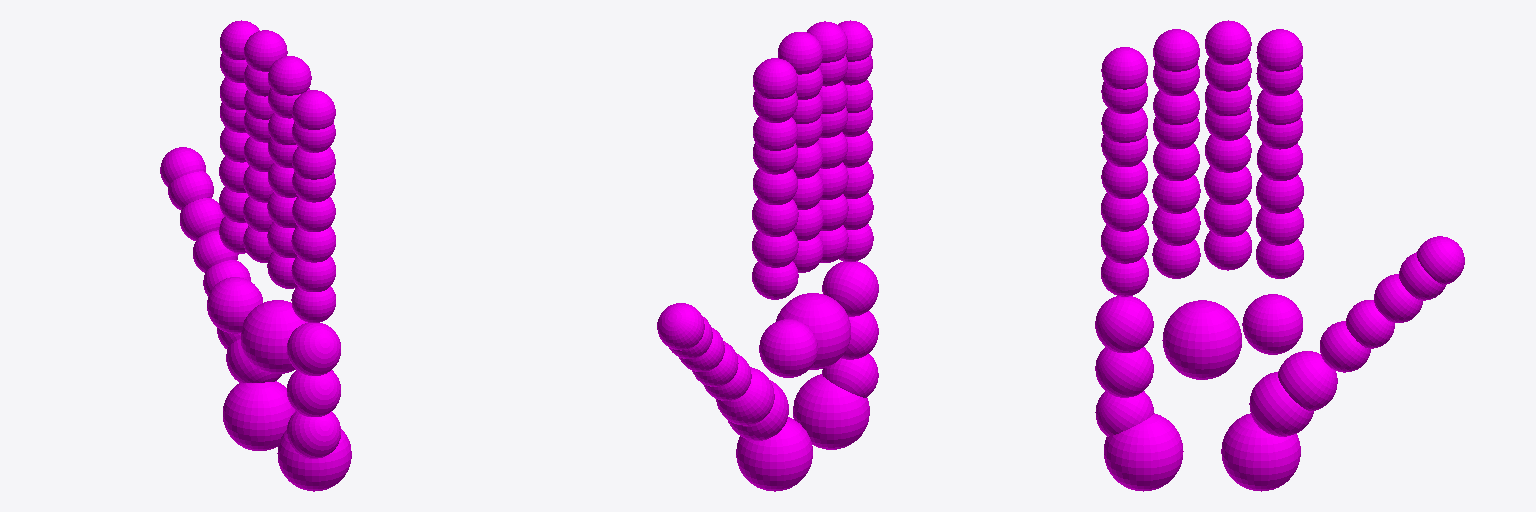
--- Render facts (derived) ---
3 views of the same robot in one strip: view 1: azimuth 30°, elevation 25°; view 2: azimuth 150°, elevation 25°; view 3: azimuth 270°, elevation 25° (orthographic).
Robot: shadow_right — 83 links, 82 joints (25 revolute, 3 prismatic, 54 fixed); root link base_link_x; default pose: every joint at zero.
Visible links, largest first — view 1: palm_collision_ball_0, palm_collision_ball_2, palm_collision_ball_1, lfmetacarpal_collision_ball_2, palm_collision_ball_3, lfmetacarpal_collision_ball_0, lfmetacarpal_collision_ball_1, lfdistal_collision_ball_2, rfdistal_collision_ball_2, thdistal_collision_ball_0, mfdistal_collision_ball_2, lfproximal_collision_ball_0 (+28 smaller); view 2: palm_collision_ball_1, palm_collision_ball_0, palm_collision_ball_2, palm_collision_ball_3, lfmetacarpal_collision_ball_2, thproximal_collision_ball_1, thdistal_collision_ball_2, lfmetacarpal_collision_ball_0, ffdistal_collision_ball_2, mfdistal_collision_ball_2, ffproximal_collision_ball_2, ffproximal_collision_ball_0 (+28 smaller); view 3: palm_collision_ball_2, palm_collision_ball_1, palm_collision_ball_0, palm_collision_ball_3, lfmetacarpal_collision_ball_2, thproximal_collision_ball_1, thproximal_collision_ball_0, lfmetacarpal_collision_ball_1, lfmetacarpal_collision_ball_0, thmiddle_collision_ball_0, thdistal_collision_ball_2, mfdistal_collision_ball_2 (+28 smaller).
Link boxes in pixels (x1,y1,x2,y2): palm_collision_ball_0: (223,381,295,450); palm_collision_ball_2: (241,300,307,373); palm_collision_ball_1: (277,429,351,491); lfmetacarpal_collision_ball_2: (287,323,340,375); palm_collision_ball_3: (207,277,262,333); lfmetacarpal_collision_ball_0: (287,411,340,458); lfmetacarpal_collision_ball_1: (287,370,340,416); lfdistal_collision_ball_2: (292,90,335,129); rfdistal_collision_ball_2: (268,56,311,95); thdistal_collision_ball_0: (180,198,224,240); mfdistal_collision_ball_2: (244,30,287,71); lfproximal_collision_ball_0: (291,286,335,322); palm_collision_ball_1: (793,374,869,449); palm_collision_ball_0: (736,417,812,491); palm_collision_ball_2: (776,293,850,369); palm_collision_ball_3: (759,319,817,377); lfmetacarpal_collision_ball_2: (822,261,878,316); thproximal_collision_ball_1: (716,367,774,425); thdistal_collision_ball_2: (657,303,704,350); lfmetacarpal_collision_ball_0: (822,354,878,397); ffdistal_collision_ball_2: (753,58,797,98); mfdistal_collision_ball_2: (778,32,822,74); ffproximal_collision_ball_2: (752,199,798,236); ffproximal_collision_ball_0: (752,261,798,299); palm_collision_ball_2: (1162,300,1241,379); palm_collision_ball_1: (1104,413,1183,491); palm_collision_ball_0: (1221,413,1300,491); palm_collision_ball_3: (1242,294,1302,354); lfmetacarpal_collision_ball_2: (1095,296,1153,352); thproximal_collision_ball_1: (1278,351,1337,410); thproximal_collision_ball_0: (1249,371,1313,436); lfmetacarpal_collision_ball_1: (1095,347,1153,397); lfmetacarpal_collision_ball_0: (1095,391,1153,436); thmiddle_collision_ball_0: (1320,321,1370,372); thdistal_collision_ball_2: (1417,236,1464,284); mfdistal_collision_ball_2: (1205,20,1251,64).
Bounding box of the posed robot: 0.0406 × 0.1573 × 0.216 m (x, y, z).
Meshes: 9 distinct files referenced, 0 mesh visuals loaded (none loaded); not drawn: 21 (reference not matched to a file when rendering).

URDF robot description (shadow_right):
<robot name="shadow_right">
  <link name="base_link_x"/>

  <joint name="dummy_x_translation_joint" type="prismatic">
    <parent link="base_link_x"/>
    <child link="base_link_y"/>
    <origin rpy="0 0 0" xyz="0 0 0"/>
    <axis xyz="1 0 0"/>
    <limit effort="300" lower="-10" upper="10" velocity="2.1750"/>
  </joint>

  <link name="base_link_y"/>

  <joint name="dummy_y_translation_joint" type="prismatic">
    <parent link="base_link_y"/>
    <child link="base_link_z"/>
    <origin rpy="0 0 0" xyz="0 0 0"/>
    <axis xyz="0 1 0"/>
    <limit effort="300" lower="-10" upper="10" velocity="2.1750"/>
  </joint>

  <link name="base_link_z"/>

  <joint name="dummy_z_translation_joint" type="prismatic">
    <parent link="base_link_z"/>
    <child link="base_link_roll"/>
    <origin rpy="0 0 0" xyz="0 0 0"/>
    <axis xyz="0 0 1"/>
    <limit effort="300" lower="-10" upper="10" velocity="2.1750"/>
  </joint>

  <link name="base_link_roll"/>

  <joint name="dummy_x_rotation_joint" type="revolute">
    <parent link="base_link_roll"/>
    <child link="base_link_pitch"/>
    <origin rpy="0 0 0" xyz="0 0 0"/>
    <axis xyz="1 0 0"/>
    <limit effort="100.95" velocity="108.48" lower="-6.283185" upper="6.283185"/>
  </joint>

  <link name="base_link_pitch"/>

  <joint name="dummy_y_rotation_joint" type="revolute">
    <parent link="base_link_pitch"/>
    <child link="base_link_yaw"/>
    <origin rpy="0 0 0" xyz="0 0 0"/>
    <axis xyz="0 1 0"/>
    <limit effort="100.95" velocity="108.48" lower="-6.283185" upper="6.283185"/>
  </joint>

  <link name="base_link_yaw"/>

  <joint name="dummy_z_rotation_joint" type="revolute">
    <parent link="base_link_yaw"/>
    <child link="world"/>
    <origin rpy="0 0 0" xyz="0 0 0"/>
    <axis xyz="0 0 1"/>
    <limit effort="100.95" velocity="108.48" lower="-6.283185" upper="6.283185"/>
  </joint>
  
  <link name="world"/>
  <joint name="world_joint" type="fixed">
    <parent link="world"/>
    <child link="palm"/>
    <origin rpy="0.0 0.0 1.57079" xyz="0.0 0.0 0.0"/>
  </joint>

  <link name="palm">
    <inertial>
      <origin rpy="0 0 0" xyz="0 0 0.035"/>
      <mass value="0.3"/>
      <inertia ixx="0.0003581" ixy="0.0" ixz="0.0" iyy="0.0005287" iyz="0.0" izz="0.000191"/>
    </inertial>
    <visual>
      <origin rpy="0 0 0" xyz="0 0 0"/>
      <geometry name="palm_visual">
        <mesh filename="meshes/visual/palm_E3M5.obj" scale="0.001 0.001 0.001"/>
      </geometry>
    </visual>
    <collision>
      <origin rpy="0 0 0" xyz="0.011 0.0085 0.042"/>
      <geometry name="palm_collision_geom">
        <box size="0.062 0.007 0.090"/>
      </geometry>
    </collision>
    <collision>
      <origin rpy="0 0 0" xyz="-0.002 -0.0035 0.042"/>
      <geometry>
        <box size="0.036 0.017 0.090"/>
      </geometry>
    </collision>
    <!-- palm complement below first finger -->
    <collision>
      <origin rpy="0 0 0" xyz="0.029 -0.0035 0.082"/>
      <geometry>
        <box size="0.026 0.017 0.010"/>
      </geometry>
    </collision>
    <collision>
      <origin rpy="0.2 0 0.25" xyz="0.0265 -0.001 0.070"/>
      <geometry>
        <box size="0.026 0.014 0.018"/>
      </geometry>
    </collision>
    <!-- thumb pulp side -->
    <collision>
      <origin rpy="0 0 0" xyz="0.0315 -0.0085 0.005"/>
      <geometry>
        <box size="0.021 0.027 0.016"/>
      </geometry>
    </collision>
    <!-- thumb pulp central -->
    <collision>
      <origin rpy="0 0 -0.48" xyz="0.0125 -0.015 0.013"/>
      <geometry>
        <box size="0.022 0.005 0.032"/>
      </geometry>
    </collision>
    <!-- above middle finger-->
    <collision>
      <origin rpy="0 0 0" xyz="0.011 0 0.089"/>
      <geometry>
        <box size="0.018 0.024 0.004"/>
      </geometry>
    </collision>
    <!-- metacarpal side-->
    <collision>
      <origin rpy="0 0 0" xyz="-0.03 0 0.013"/>
      <geometry>
        <box size="0.020 0.024 0.032"/>
      </geometry>
    </collision>
  </link>

  <!-- balls -->

  <link name="palm_collision_ball_0">
    <visual>
    <geometry>
    <sphere radius="0.017"/>
    </geometry>
    <material name="purple">
    <color rgba="1.0 0.0 1.0 1.0"/>
    </material>
    </visual>
    <collision>
    <geometry>
    <sphere radius="0.017"/>
    </geometry>
    </collision>
  </link>
  <joint name="palm_collision_ball_0_joint" type="fixed">
    <parent link="palm"/>
    <child link="palm_collision_ball_0"/>
    <origin rpy="0 0 0" xyz="0.025 -0.005 0.005 "/>
  </joint>

  <link name="palm_collision_ball_1">
    <visual>
    <geometry>
    <sphere radius="0.017"/>
    </geometry>
    <material name="purple">
    <color rgba="1.0 0.0 1.0 1.0"/>
    </material>
    </visual>
    <collision>
    <geometry>
    <sphere radius="0.017"/>
    </geometry>
    </collision>
  </link>
  <joint name="palm_collision_ball_1_joint" type="fixed">
    <parent link="palm"/>
    <child link="palm_collision_ball_1"/>
    <origin rpy="0 0 0" xyz="-0.025 -0.005 0.005 "/>
  </joint>

  <link name="palm_collision_ball_2">
    <visual>
    <geometry>
    <sphere radius="0.017"/>
    </geometry>
    <material name="purple">
    <color rgba="1.0 0.0 1.0 1.0"/>
    </material>
    </visual>
    <collision>
    <geometry>
    <sphere radius="0.017"/>
    </geometry>
    </collision>
  </link>
  <joint name="palm_collision_ball_2_joint" type="fixed">
    <parent link="palm"/>
    <child link="palm_collision_ball_2"/>
    <origin rpy="0 0 0" xyz="0.0 0.0 0.055 "/>
  </joint> 

  <link name="palm_collision_ball_3">
    <visual>
    <geometry>
    <sphere radius="0.013"/>
    </geometry>
    <material name="purple">
    <color rgba="1.0 0.0 1.0 1.0"/>
    </material>
    </visual>
    <collision>
    <geometry>
    <sphere radius="0.013"/>
    </geometry>
    </collision>
  </link>
  <joint name="palm_collision_ball_3_joint" type="fixed">
    <parent link="palm"/>
    <child link="palm_collision_ball_3"/>
    <origin rpy="0 0 0" xyz="0.03 0.005 0.06 "/>
  </joint>

  <joint name="ee_fixed_joint" type="fixed">
    <parent link="palm"/>
    <child link="ee_link"/>
    <origin rpy="0.0 0.0 -1.57079" xyz="0.0 0.0 0.0"/>
  </joint>
  <link name="ee_link"/>
  
  <link name="imu"/>
  <joint name="palm_to_imu" type="fixed">
    <parent link="palm"/>
    <child link="imu"/>
    <origin rpy="-1.5707963 3.141592 0.0" xyz="0.01785 0.00765 0.049125"/>
  </joint>
  <link name="ffknuckle">
    <inertial>
      <origin rpy="0 0 0" xyz="0 0 0"/>
      <mass value="0.008"/>
      <inertia ixx="0.00000026" ixy="0.0" ixz="0.0" iyy="0.00000026" iyz="0.0" izz="0.00000032"/>
    </inertial>
    <visual>
      <origin rpy="0 0 0" xyz="0 0 0.0005"/>
      <geometry name="ffknuckle_visual">
        <mesh filename="meshes/visual/f_knuckle_E3M5.obj" scale="0.001 0.001 0.001"/>
      </geometry>
    </visual>
    <collision>
      <geometry name="ffknuckle_visual">
        <mesh filename="meshes/collision/f_knuckle_E3M5.obj"/>
      </geometry>
    </collision>
  </link>
  <joint name="FFJ4" type="revolute">
    <parent link="palm"/>
    <child link="ffknuckle"/>
    <origin rpy="0 0 0" xyz="0.033 0 0.095"/>
    <axis xyz="0 -1 0"/>
    <limit effort="2" lower="-0.349065850399" upper="0.349065850399" velocity="2.0"/>
    <dynamics damping="0.1"/>
  </joint>
  <link name="ffproximal">
    <inertial>
      <mass value="0.030"/>
      <origin xyz="0 0 0.0225"/>
      <inertia ixx="0.0000098" ixy="0.0" ixz="0.0" iyy="0.00001" iyz="0.0" izz="0.0000018"/>
    </inertial>
    <visual>
      <origin rpy="0 0 0" xyz="0 0 0"/>
      <geometry name="ffproximal_visual">
        <mesh filename="meshes/visual/f_proximal_E3M5.obj" scale="0.001 0.001 0.001"/>
      </geometry>
    </visual>
    <collision>
      <origin rpy="0 0 0" xyz="0 0 0.025"/>
      <geometry name="ffproximal_collision_geom">
        <cylinder length="0.040" radius="0.007"/>
      </geometry>
    </collision>
  </link>

  <!-- balls -->

  <link name="ffproximal_collision_ball_0">
    <visual>
    <geometry>
    <sphere radius="0.0103"/>
    </geometry>
    <material name="purple">
    <color rgba="1.0 0.0 1.0 1.0"/>
    </material>
    </visual>
    <collision>
    <geometry>
    <sphere radius="0.0103"/>
    </geometry>
    </collision>
  </link>
  <joint name="ffproximal_collision_ball_0_joint" type="fixed">
    <parent link="ffproximal"/>
    <child link="ffproximal_collision_ball_0"/>
    <origin rpy="0 0 0" xyz="0.0 0.0 0.0 "/>
  </joint>

  <link name="ffproximal_collision_ball_1">
    <visual>
    <geometry>
    <sphere radius="0.0103"/>
    </geometry>
    <material name="purple">
    <color rgba="1.0 0.0 1.0 1.0"/>
    </material>
    </visual>
    <collision>
    <geometry>
    <sphere radius="0.0103"/>
    </geometry>
    </collision>
  </link>
  <joint name="ffproximal_collision_ball_1_joint" type="fixed">
    <parent link="ffproximal"/>
    <child link="ffproximal_collision_ball_1"/>
    <origin rpy="0 0 0" xyz="0.0 0.0 0.015 "/>
  </joint>

  <link name="ffproximal_collision_ball_2">
    <visual>
    <geometry>
    <sphere radius="0.0103"/>
    </geometry>
    <material name="purple">
    <color rgba="1.0 0.0 1.0 1.0"/>
    </material>
    </visual>
    <collision>
    <geometry>
    <sphere radius="0.0103"/>
    </geometry>
    </collision>
  </link>
  <joint name="ffproximal_collision_ball_2_joint" type="fixed">
    <parent link="ffproximal"/>
    <child link="ffproximal_collision_ball_2"/>
    <origin rpy="0 0 0" xyz="0.0 0.0 0.03 "/>
  </joint>

  <joint name="FFJ3" type="revolute">
    <parent link="ffknuckle"/>
    <child link="ffproximal"/>
    <origin rpy="0 0 0" xyz="0 0 0"/>
    <axis xyz="1 0 0"/>
    <limit effort="2" lower="-0.261799387799" upper="1.57079632679" velocity="2.0"/>
    <dynamics damping="0.1"/>
  </joint>
  <link name="ffmiddle">
    <inertial>
      <origin rpy="0 0 0" xyz="0 0 0.0125"/>
      <mass value="0.017"/>
      <inertia ixx="0.0000026" ixy="0.0" ixz="0.0" iyy="0.0000027" iyz="0.0" izz="0.00000087"/>
    </inertial>
    <visual>
      <origin rpy="0 0 0" xyz="0 0 0"/>
      <geometry name="ffmiddle_visual">
        <mesh filename="meshes/visual/f_middle_E3M5.obj" scale="0.001 0.001 0.001"/>
      </geometry>
    </visual>
    <collision>
      <origin rpy="0 0 0" xyz="0 0 0.0125"/>
      <geometry name="ffmiddle_collision_geom">
        <cylinder length="0.025" radius="0.007"/>
      </geometry>
    </collision>
    <collision>
      <origin rpy="0 0 0" xyz="0 0 0.0"/>
      <geometry>
        <sphere radius="0.007"/>
      </geometry>
    </collision>
    <collision>
      <origin rpy="0 0 0" xyz="0 0 0.025"/>
      <geometry>
        <sphere radius="0.007"/>
      </geometry>
    </collision>
  </link>

  <!-- balls -->

  <link name="ffmiddle_collision_ball_0">
    <visual>
    <geometry>
    <sphere radius="0.010"/>
    </geometry>
    <material name="purple">
    <color rgba="1.0 0.0 1.0 1.0"/>
    </material>
    </visual>
    <collision>
    <geometry>
    <sphere radius="0.010"/>
    </geometry>
    </collision>
  </link>
  <joint name="ffmiddle_collision_ball_0_joint" type="fixed">
    <parent link="ffmiddle"/>
    <child link="ffmiddle_collision_ball_0"/>
    <origin rpy="0 0 0" xyz="0.0 0.0 0.0 "/>
  </joint>

  <link name="ffmiddle_collision_ball_1">
    <visual>
    <geometry>
    <sphere radius="0.010"/>
    </geometry>
    <material name="purple">
    <color rgba="1.0 0.0 1.0 1.0"/>
    </material>
    </visual>
    <collision>
    <geometry>
    <sphere radius="0.010"/>
    </geometry>
    </collision>
  </link>
  <joint name="ffmiddle_collision_ball_1_joint" type="fixed">
    <parent link="ffmiddle"/>
    <child link="ffmiddle_collision_ball_1"/>
    <origin rpy="0 0 0" xyz="0.0 0.0 0.015 "/>
  </joint>

  <joint name="FFJ2" type="revolute">
    <parent link="ffproximal"/>
    <child link="ffmiddle"/>
    <origin rpy="0 0 0" xyz="0 0 0.045"/>
    <axis xyz="1 0 0"/>
    <limit effort="2" lower="0" upper="1.57079632679" velocity="2.0"/>
    <dynamics damping="0.1"/>
  </joint>
  <link name="ffdistal">
    <!--    inertial and mass is enlarged by 10 times to fix the position drive issue in Physx simulation, used in IsaacGym and SAPIEN-->
    <inertial>
      <mass value="0.12"/>
      <origin xyz="0 0 0.012"/>
      <inertia ixx="0.0000094" ixy="0.0" ixz="0.0" iyy="0.000011" iyz="0.0" izz="0.0000053"/>
    </inertial>
    <visual>
      <origin rpy="0 0 0" xyz="0 0 0"/>
      <geometry name="ffdistal_visual">
        <mesh filename="meshes/visual/f_distal_pst.obj" scale="0.001 0.001 0.001"/>
      </geometry>
    </visual>
    <collision>
      <origin rpy="0 0 0" xyz="0 0 0"/>
      <geometry name="ffdistal_collision_geom">
        <mesh filename="meshes/visual/f_distal_pst.obj" scale="0.001 0.001 0.001"/>
      </geometry>
    </collision>
  </link>

  <!-- balls -->

  <link name="ffdistal_collision_ball_0">
    <visual>
    <geometry>
    <sphere radius="0.010"/>
    </geometry>
    <material name="purple">
    <color rgba="1.0 0.0 1.0 1.0"/>
    </material>
    </visual>
    <collision>
    <geometry>
    <sphere radius="0.010"/>
    </geometry>
    </collision>
  </link>
  <joint name="ffdistal_collision_ball_0_joint" type="fixed">
    <parent link="ffdistal"/>
    <child link="ffdistal_collision_ball_0"/>
    <origin rpy="0 0 0" xyz="0.0 0.0 0.0 "/>
  </joint>

  <link name="ffdistal_collision_ball_1">
    <visual>
    <geometry>
    <sphere radius="0.010"/>
    </geometry>
    <material name="purple">
    <color rgba="1.0 0.0 1.0 1.0"/>
    </material>
    </visual>
    <collision>
    <geometry>
    <sphere radius="0.010"/>
    </geometry>
    </collision>
  </link>
  <joint name="ffdistal_collision_ball_1_joint" type="fixed">
    <parent link="ffdistal"/>
    <child link="ffdistal_collision_ball_1"/>
    <origin rpy="0 0 0" xyz="0.0 0.0 0.015 "/>
  </joint>

  <link name="ffdistal_collision_ball_2">
    <visual>
    <geometry>
    <sphere radius="0.010"/>
    </geometry>
    <material name="purple">
    <color rgba="1.0 0.0 1.0 1.0"/>
    </material>
    </visual>
    <collision>
    <geometry>
    <sphere radius="0.010"/>
    </geometry>
    </collision>
  </link>
  <joint name="ffdistal_collision_ball_2_joint" type="fixed">
    <parent link="ffdistal"/>
    <child link="ffdistal_collision_ball_2"/>
    <origin rpy="0 0 0" xyz="0.0 0.0 0.025 "/>
  </joint>

  <joint name="FFJ1" type="revolute">
    <parent link="ffmiddle"/>
    <child link="ffdistal"/>
    <origin rpy="0 0 0" xyz="0 0 0.025"/>
    <axis xyz="1 0 0"/>
    <!-- standard distal joint -->
    <limit effort="2" lower="0" upper="1.57079632679" velocity="2.0"/>
    <dynamics damping="0.1"/>
  </joint>
  <link name="fftip">
    <inertial>
      <mass value="0.001"/>
      <inertia ixx="0.0" ixy="0.0" ixz="0.0" iyy="0.0" iyz="0.0" izz="0.0"/>
    </inertial>
  </link>
  <joint name="FFtip" type="fixed">
    <parent link="ffdistal"/>
    <child link="fftip"/>
    <origin rpy="0 0 0" xyz="0 0 0.026"/>
  </joint>
  <link name="mfknuckle">
    <inertial>
      <origin rpy="0 0 0" xyz="0 0 0"/>
      <mass value="0.008"/>
      <inertia ixx="0.00000026" ixy="0.0" ixz="0.0" iyy="0.00000026" iyz="0.0" izz="0.00000032"/>
    </inertial>
    <visual>
      <origin rpy="0 0 0" xyz="0 0 0.0005"/>
      <geometry name="mfknuckle_visual">
        <mesh filename="meshes/visual/f_knuckle_E3M5.obj" scale="0.001 0.001 0.001"/>
      </geometry>
    </visual>
    <collision>
      <geometry name="ffknuckle_visual">
        <mesh filename="meshes/collision/f_knuckle_E3M5.obj"/>
      </geometry>
    </collision>
  </link>
  <joint name="MFJ4" type="revolute">
    <parent link="palm"/>
    <child link="mfknuckle"/>
    <!--<origin xyz="0.033 0 0.095" rpy="0 0 0" />-->
    <origin rpy="0 0 0" xyz="0.011 0 0.099"/>
    <axis xyz="0 -1 0"/>
    <limit effort="2" lower="-0.349065850399" upper="0.349065850399" velocity="2.0"/>
    <dynamics damping="0.1"/>
  </joint>
  <link name="mfproximal">
    <inertial>
      <mass value="0.030"/>
      <origin xyz="0 0 0.0225"/>
      <inertia ixx="0.0000098" ixy="0.0" ixz="0.0" iyy="0.00001" iyz="0.0" izz="0.0000018"/>
    </inertial>
    <visual>
      <origin rpy="0 0 0" xyz="0 0 0"/>
      <geometry name="mfproximal_visual">
        <mesh filename="meshes/visual/f_proximal_E3M5.obj" scale="0.001 0.001 0.001"/>
      </geometry>
    </visual>
    <collision>
      <origin rpy="0 0 0" xyz="0 0 0.025"/>
      <geometry name="mfproximal_collision_geom">
        <cylinder length="0.040" radius="0.007"/>
      </geometry>
    </collision>
  </link>

  <!-- balls -->

  <link name="mfproximal_collision_ball_0">
    <visual>
    <geometry>
    <sphere radius="0.0103"/>
    </geometry>
    <material name="purple">
    <color rgba="1.0 0.0 1.0 1.0"/>
    </material>
    </visual>
    <collision>
    <geometry>
    <sphere radius="0.0103"/>
    </geometry>
    </collision>
  </link>
  <joint name="mfproximal_collision_ball_0_joint" type="fixed">
    <parent link="mfproximal"/>
    <child link="mfproximal_collision_ball_0"/>
    <origin rpy="0 0 0" xyz="0.0 0.0 0.0 "/>
  </joint>

  <link name="mfproximal_collision_ball_1">
    <visual>
    <geometry>
    <sphere radius="0.0103"/>
    </geometry>
    <material name="purple">
    <color rgba="1.0 0.0 1.0 1.0"/>
    </material>
    </visual>
    <collision>
    <geometry>
    <sphere radius="0.0103"/>
    </geometry>
    </collision>
  </link>
  <joint name="mfproximal_collision_ball_1_joint" type="fixed">
    <parent link="mfproximal"/>
    <child link="mfproximal_collision_ball_1"/>
    <origin rpy="0 0 0" xyz="0.0 0.0 0.015 "/>
  </joint>

  <link name="mfproximal_collision_ball_2">
    <visual>
    <geometry>
    <sphere radius="0.0103"/>
    </geometry>
    <material name="purple">
    <color rgba="1.0 0.0 1.0 1.0"/>
    </material>
    </visual>
    <collision>
    <geometry>
    <sphere radius="0.0103"/>
    </geometry>
    </collision>
  </link>
  <joint name="mfproximal_collision_ball_2_joint" type="fixed">
    <parent link="mfproximal"/>
    <child link="mfproximal_collision_ball_2"/>
    <origin rpy="0 0 0" xyz="0.0 0.0 0.03 "/>
  </joint>

  <joint name="MFJ3" type="revolute">
    <parent link="mfknuckle"/>
    <child link="mfproximal"/>
    <origin rpy="0 0 0" xyz="0 0 0"/>
    <axis xyz="1 0 0"/>
    <limit effort="2" lower="-0.261799387799" upper="1.57079632679" velocity="2.0"/>
    <dynamics damping="0.1"/>
  </joint>
  <link name="mfmiddle">
    <inertial>
      <origin rpy="0 0 0" xyz="0 0 0.0125"/>
      <mass value="0.017"/>
      <inertia ixx="0.0000026" ixy="0.0" ixz="0.0" iyy="0.0000027" iyz="0.0" izz="0.00000087"/>
    </inertial>
    <visual>
      <origin rpy="0 0 0" xyz="0 0 0"/>
      <geometry name="mfmiddle_visual">
        <mesh filename="meshes/visual/f_middle_E3M5.obj" scale="0.001 0.001 0.001"/>
      </geometry>
    </visual>
    <collision>
      <origin rpy="0 0 0" xyz="0 0 0.0125"/>
      <geometry name="mfmiddle_collision_geom">
        <cylinder length="0.025" radius="0.007"/>
      </geometry>
    </collision>
    <collision>
      <origin rpy="0 0 0" xyz="0 0 0.0"/>
      <geometry>
        <sphere radius="0.007"/>
      </geometry>
    </collision>
    <collision>
      <origin rpy="0 0 0" xyz="0 0 0.025"/>
      <geometry>
        <sphere radius="0.007"/>
      </geometry>
    </collision>
  </link>

  <!-- balls -->

  <link name="mfmiddle_collision_ball_0">
    <visual>
    <geometry>
    <sphere radius="0.010"/>
    </geometry>
    <material name="purple">
    <color rgba="1.0 0.0 1.0 1.0"/>
    </material>
    </visual>
    <collision>
    <geometry>
    <sphere radius="0.010"/>
    </geometry>
    </collision>
  </link>
  <joint name="mfmiddle_collision_ball_0_joint" type="fixed">
    <parent link="mfmiddle"/>
    <child link="mfmiddle_collision_ball_0"/>
    <origin rpy="0 0 0" xyz="0.0 0.0 0.0 "/>
  </joint>

  <link name="mfmiddle_collision_ball_1">
    <visual>
    <geometry>
    <sphere radius="0.010"/>
    </geometry>
    <material name="purple">
    <color rgba="1.0 0.0 1.0 1.0"/>
    </material>
    </visual>
    <collision>
    <geometry>
    <sphere radius="0.010"/>
    </geometry>
    </collision>
  </link>
  <joint name="mfmiddle_collision_ball_1_joint" type="fixed">
    <parent link="mfmiddle"/>
    <child link="mfmiddle_collision_ball_1"/>
    <origin rpy="0 0 0" xyz="0.0 0.0 0.015 "/>
  </joint>

  <joint name="MFJ2" type="revolute">
    <parent link="mfproximal"/>
    <child link="mfmiddle"/>
    <origin rpy="0 0 0" xyz="0 0 0.045"/>
    <axis xyz="1 0 0"/>
    <limit effort="2" lower="0" upper="1.57079632679" velocity="2.0"/>
    <dynamics damping="0.1"/>
  </joint>
  <link name="mfdistal">
    <!--    inertial and mass is enlarged by 10 times to fix the position drive issue in Physx simulation, used in IsaacGym and SAPIEN-->
    <inertial>
      <mass value="0.12"/>
      <origin xyz="0 0 0.012"/>
      <inertia ixx="0.0000094" ixy="0.0" ixz="0.0" iyy="0.000011" iyz="0.0" izz="0.0000053"/>
    </inertial>
    <visual>
      <origin rpy="0 0 0" xyz="0 0 0"/>
      <geometry name="mfdistal_visual">
        <mesh filename="meshes/visual/f_distal_pst.obj" scale="0.001 0.001 0.001"/>
      </geometry>
    </visual>
    <collision>
      <origin rpy="0 0 0" xyz="0 0 0"/>
      <geometry name="mfdistal_collision_geom">
        <mesh filename="meshes/collision/f_distal_pst.obj" scale="0.001 0.001 0.001"/>
      </geometry>
    </collision>
  </link>

  <!-- balls -->

  <link name="mfdistal_collision_ball_0">
    <visual>
    <geometry>
    <sphere radius="0.010"/>
    </geometry>
    <material name="purple">
    <color rgba="1.0 0.0 1.0 1.0"/>
    </material>
    </visual>
    <collision>
    <geometry>
    <sphere radius="0.010"/>
    </geometry>
    </collision>
  </link>
  <joint name="mfdistal_collision_ball_0_joint" type="fixed">
    <parent link="mfdistal"/>
    <child link="mfdistal_collision_ball_0"/>
    <origin rpy="0 0 0" xyz="0.0 0.0 0.0 "/>
  </joint>

  <link name="mfdistal_collision_ball_1">
    <visual>
    <geometry>
    <sphere radius="0.010"/>
    </geometry>
    <material name="purple">
    <color rgba="1.0 0.0 1.0 1.0"/>
    </material>
    </visual>
    <collision>
    <geometry>
    <sphere radius="0.010"/>
    </geometry>
    </collision>
  </link>
  <joint name="mfdistal_collision_ball_1_joint" type="fixed">
    <parent link="mfdistal"/>
    <child link="mfdistal_collision_ball_1"/>
    <origin rpy="0 0 0" xyz="0.0 0.0 0.0125 "/>
  </joint>

  <link name="mfdistal_collision_ball_2">
    <visual>
    <geometry>
    <sphere radius="0.010"/>
    </geometry>
    <material name="purple">
    <color rgba="1.0 0.0 1.0 1.0"/>
    </material>
    </visual>
    <collision>
    <geometry>
    <sphere radius="0.010"/>
    </geometry>
    </collision>
  </link>
  <joint name="mfdistal_collision_ball_2_joint" type="fixed">
    <parent link="mfdistal"/>
    <child link="mfdistal_collision_ball_2"/>
    <origin rpy="0 0 0" xyz="0.0 0.0 0.025 "/>
  </joint>

  <joint name="MFJ1" type="revolute">
    <parent link="mfmiddle"/>
    <child link="mfdistal"/>
    <origin rpy="0 0 0" xyz="0 0 0.025"/>
    <axis xyz="1 0 0"/>
    <!-- standard distal joint -->
    <limit effort="2" lower="0" upper="1.57079632679" velocity="2.0"/>
    <dynamics damping="0.1"/>
  </joint>
  <link name="mftip">
    <inertial>
      <mass value="0.001"/>
      <inertia ixx="0.0" ixy="0.0" ixz="0.0" iyy="0.0" iyz="0.0" izz="0.0"/>
    </inertial>
  </link>
  <joint name="MFtip" type="fixed">
    <parent link="mfdistal"/>
    <child link="mftip"/>
    <origin rpy="0 0 0" xyz="0 0 0.026"/>
  </joint>
  <link name="rfknuckle">
    <inertial>
      <origin rpy="0 0 0" xyz="0 0 0"/>
      <mass value="0.008"/>
      <inertia ixx="0.00000026" ixy="0.0" ixz="0.0" iyy="0.00000026" iyz="0.0" izz="0.00000032"/>
    </inertial>
    <visual>
      <origin rpy="0 0 0" xyz="0 0 0.0005"/>
      <geometry name="rfknuckle_visual">
        <mesh filename="meshes/visual/f_knuckle_E3M5.obj" scale="0.001 0.001 0.001"/>
      </geometry>
    </visual>
    <collision>
      <geometry name="ffknuckle_visual">
        <mesh filename="meshes/collision/f_knuckle_E3M5.obj"/>
      </geometry>
    </collision>
  </link>
  <joint name="RFJ4" type="revolute">
    <parent link="palm"/>
    <child link="rfknuckle"/>
    <!--<origin xyz="0.033 0 0.095" rpy="0 0 0" />-->
    <origin rpy="0 0 0" xyz="-0.011 0 0.095"/>
    <axis xyz="0 1 0"/>
    <limit effort="2" lower="-0.349065850399" upper="0.349065850399" velocity="2.0"/>
    <dynamics damping="0.1"/>
  </joint>
  <link name="rfproximal">
    <inertial>
      <mass value="0.030"/>
      <origin xyz="0 0 0.0225"/>
      <inertia ixx="0.0000098" ixy="0.0" ixz="0.0" iyy="0.00001" iyz="0.0" izz="0.0000018"/>
    </inertial>
    <visual>
      <origin rpy="0 0 0" xyz="0 0 0"/>
      <geometry name="rfproximal_visual">
        <mesh filename="meshes/visual/f_proximal_E3M5.obj" scale="0.001 0.001 0.001"/>
      </geometry>
    </visual>
    <collision>
      <origin rpy="0 0 0" xyz="0 0 0.025"/>
      <geometry name="rfproximal_collision_geom">
        <cylinder length="0.040" radius="0.007"/>
      </geometry>
    </collision>
  </link>

  <!-- balls -->

  <link name="rfproximal_collision_ball_0">
    <visual>
    <geometry>
    <sphere radius="0.0103"/>
    </geometry>
    <material name="purple">
    <color rgba="1.0 0.0 1.0 1.0"/>
    </material>
    </visual>
    <collision>
    <geometry>
    <sphere radius="0.0103"/>
    </geometry>
    </collision>
  </link>
  <joint name="rfproximal_collision_ball_0_joint" type="fixed">
    <parent link="rfproximal"/>
    <child link="rfproximal_collision_ball_0"/>
    <origin rpy="0 0 0" xyz="0.0 0.0 0.0 "/>
  </joint>

  <link name="rfproximal_collision_ball_1">
    <visual>
    <geometry>
    <sphere radius="0.0103"/>
    </geometry>
    <material name="purple">
    <color rgba="1.0 0.0 1.0 1.0"/>
    </material>
    </visual>
    <collision>
    <geometry>
    <sphere radius="0.0103"/>
    </geometry>
    </collision>
  </link>
  <joint name="rfproximal_collision_ball_1_joint" type="fixed">
    <parent link="rfproximal"/>
    <child link="rfproximal_collision_ball_1"/>
    <origin rpy="0 0 0" xyz="0.0 0.0 0.015 "/>
  </joint>

  <link name="rfproximal_collision_ball_2">
    <visual>
    <geometry>
    <sphere radius="0.0103"/>
    </geometry>
    <material name="purple">
    <color rgba="1.0 0.0 1.0 1.0"/>
    </material>
    </visual>
    <collision>
    <geometry>
    <sphere radius="0.0103"/>
    </geometry>
    </collision>
  </link>
  <joint name="rfproximal_collision_ball_2_joint" type="fixed">
    <parent link="rfproximal"/>
    <child link="rfproximal_collision_ball_2"/>
    <origin rpy="0 0 0" xyz="0.0 0.0 0.03 "/>
  </joint>

  <joint name="RFJ3" type="revolute">
    <parent link="rfknuckle"/>
    <child link="rfproximal"/>
    <origin rpy="0 0 0" xyz="0 0 0"/>
    <axis xyz="1 0 0"/>
    <limit effort="2" lower="-0.261799387799" upper="1.57079632679" velocity="2.0"/>
    <dynamics damping="0.1"/>
  </joint>
  <link name="rfmiddle">
    <inertial>
      <origin rpy="0 0 0" xyz="0 0 0.0125"/>
      <mass value="0.017"/>
      <inertia ixx="0.0000026" ixy="0.0" ixz="0.0" iyy="0.0000027" iyz="0.0" izz="0.00000087"/>
    </inertial>
    <visual>
      <origin rpy="0 0 0" xyz="0 0 0"/>
      <geometry name="rfmiddle_visual">
        <mesh filename="meshes/visual/f_middle_E3M5.obj" scale="0.001 0.001 0.001"/>
      </geometry>
    </visual>
    <collision>
      <origin rpy="0 0 0" xyz="0 0 0.0125"/>
      <geometry name="rfmiddle_collision_geom">
        <cylinder length="0.025" radius="0.007"/>
      </geometry>
    </collision>
    <collision>
      <origin rpy="0 0 0" xyz="0 0 0.0"/>
      <geometry>
        <sphere radius="0.007"/>
      </geometry>
    </collision>
    <collision>
      <origin rpy="0 0 0" xyz="0 0 0.025"/>
      <geometry>
        <sphere radius="0.007"/>
      </geometry>
    </collision>
  </link>

  <!-- balls -->

  <link name="rfmiddle_collision_ball_0">
    <visual>
    <geometry>
    <sphere radius="0.010"/>
    </geometry>
    <material name="purple">
    <color rgba="1.0 0.0 1.0 1.0"/>
    </material>
    </visual>
    <collision>
    <geometry>
    <sphere radius="0.010"/>
    </geometry>
    </collision>
  </link>
  <joint name="rfmiddle_collision_ball_0_joint" type="fixed">
    <parent link="rfmiddle"/>
    <child link="rfmiddle_collision_ball_0"/>
    <origin rpy="0 0 0" xyz="0.0 0.0 0.0 "/>
  </joint>

  <link name="rfmiddle_collision_ball_1">
    <visual>
    <geometry>
    <sphere radius="0.010"/>
    </geometry>
    <material name="purple">
    <color rgba="1.0 0.0 1.0 1.0"/>
    </material>
    </visual>
    <collision>
    <geometry>
    <sphere radius="0.010"/>
    </geometry>
    </collision>
  </link>
  <joint name="rfmiddle_collision_ball_1_joint" type="fixed">
    <parent link="rfmiddle"/>
    <child link="rfmiddle_collision_ball_1"/>
    <origin rpy="0 0 0" xyz="0.0 0.0 0.015 "/>
  </joint>

  <joint name="RFJ2" type="revolute">
    <parent link="rfproximal"/>
    <child link="rfmiddle"/>
    <origin rpy="0 0 0" xyz="0 0 0.045"/>
    <axis xyz="1 0 0"/>
    <limit effort="2" lower="0" upper="1.57079632679" velocity="2.0"/>
    <dynamics damping="0.1"/>
  </joint>
  <link name="rfdistal">
    <!--    inertial and mass is enlarged by 10 times to fix the position drive issue in Physx simulation, used in IsaacGym and SAPIEN-->
    <inertial>
      <mass value="0.12"/>
      <origin xyz="0 0 0.012"/>
      <inertia ixx="0.0000094" ixy="0.0" ixz="0.0" iyy="0.000011" iyz="0.0" izz="0.0000053"/>
    </inertial>
    <visual>
      <origin rpy="0 0 0" xyz="0 0 0"/>
      <geometry name="rfdistal_visual">
        <mesh filename="meshes/visual/f_distal_pst.obj" scale="0.001 0.001 0.001"/>
      </geometry>
    </visual>
    <collision>
      <origin rpy="0 0 0" xyz="0 0 0"/>
      <geometry name="rfdistal_collision_geom">
        <mesh filename="meshes/collision/f_distal_pst.obj" scale="0.001 0.001 0.001"/>
      </geometry>
    </collision>
  </link>

  <!-- balls -->

  <link name="rfdistal_collision_ball_0">
    <visual>
    <geometry>
    <sphere radius="0.010"/>
    </geometry>
    <material name="purple">
    <color rgba="1.0 0.0 1.0 1.0"/>
    </material>
    </visual>
    <collision>
    <geometry>
    <sphere radius="0.010"/>
    </geometry>
    </collision>
  </link>
  <joint name="rfdistal_collision_ball_0_joint" type="fixed">
    <parent link="rfdistal"/>
    <child link="rfdistal_collision_ball_0"/>
    <origin rpy="0 0 0" xyz="0.0 0.0 0.0 "/>
  </joint>

  <link name="rfdistal_collision_ball_1">
    <visual>
    <geometry>
    <sphere radius="0.010"/>
    </geometry>
    <material name="purple">
    <color rgba="1.0 0.0 1.0 1.0"/>
    </material>
    </visual>
    <collision>
    <geometry>
    <sphere radius="0.010"/>
    </geometry>
    </collision>
  </link>
  <joint name="rfdistal_collision_ball_1_joint" type="fixed">
    <parent link="rfdistal"/>
    <child link="rfdistal_collision_ball_1"/>
    <origin rpy="0 0 0" xyz="0.0 0.0 0.015 "/>
  </joint>

  <link name="rfdistal_collision_ball_2">
    <visual>
    <geometry>
    <sphere radius="0.010"/>
    </geometry>
    <material name="purple">
    <color rgba="1.0 0.0 1.0 1.0"/>
    </material>
    </visual>
    <collision>
    <geometry>
    <sphere radius="0.010"/>
    </geometry>
    </collision>
  </link>
  <joint name="rfdistal_collision_ball_2_joint" type="fixed">
    <parent link="rfdistal"/>
    <child link="rfdistal_collision_ball_2"/>
    <origin rpy="0 0 0" xyz="0.0 0.0 0.025 "/>
  </joint>

  <joint name="RFJ1" type="revolute">
    <parent link="rfmiddle"/>
    <child link="rfdistal"/>
    <origin rpy="0 0 0" xyz="0 0 0.025"/>
    <axis xyz="1 0 0"/>
    <!-- standard distal joint -->
    <limit effort="2" lower="0" upper="1.57079632679" velocity="2.0"/>
    <dynamics damping="0.1"/>
  </joint>
  <link name="rftip">
    <inertial>
      <mass value="0.001"/>
      <inertia ixx="0.0" ixy="0.0" ixz="0.0" iyy="0.0" iyz="0.0" izz="0.0"/>
    </inertial>
  </link>
  <joint name="RFtip" type="fixed">
    <parent link="rfdistal"/>
    <child link="rftip"/>
    <origin rpy="0 0 0" xyz="0 0 0.026"/>
  </joint>
  <link name="lfmetacarpal">
    <inertial>
      <origin rpy="0 0.9599 0" xyz="0.0317486764706 0 0.0223529411765"/>
      <mass value="0.030"/>
      <inertia ixx="0.0000145" ixy="0.0" ixz="0.0" iyy="0.00001638" iyz="0.0" izz="0.000004272"/>
    </inertial>
    <visual>
      <origin rpy="0 0.9599 0" xyz="0 0 0"/>
      <geometry name="lfmetacarpal_visual">
        <mesh filename="meshes/visual/lf_metacarpal_E3M5.obj" scale="0.001 0.001 0.001"/>
      </geometry>
    </visual>
    <collision>
      <origin rpy="0 0.9599 0" xyz="0.026986375 0 0.019"/>
      <geometry name="lfmetacarpal_collision_geom">
        <box size="0.018 0.024 0.040"/>
      </geometry>
    </collision>
  </link>

  <!-- balls -->

  <link name="lfmetacarpal_collision_ball_0">
    <visual>
    <geometry>
    <sphere radius="0.0125"/>
    </geometry>
    <material name="purple">
    <color rgba="1.0 0.0 1.0 1.0"/>
    </material>
    </visual>
    <collision>
    <geometry>
    <sphere radius="0.0125"/>
    </geometry>
    </collision>
  </link>
  <joint name="lfmetacarpal_collision_ball_0_joint" type="fixed">
    <parent link="lfmetacarpal"/>
    <child link="lfmetacarpal_collision_ball_0"/>
    <origin rpy="0 0 0" xyz="0.0 0.0 0.0 "/>
  </joint>

  <link name="lfmetacarpal_collision_ball_1">
    <visual>
    <geometry>
    <sphere radius="0.0125"/>
    </geometry>
    <material name="purple">
    <color rgba="1.0 0.0 1.0 1.0"/>
    </material>
    </visual>
    <collision>
    <geometry>
    <sphere radius="0.0125"/>
    </geometry>
    </collision>
  </link>
  <joint name="lfmetacarpal_collision_ball_1_joint" type="fixed">
    <parent link="lfmetacarpal"/>
    <child link="lfmetacarpal_collision_ball_1"/>
    <origin rpy="0 0 0" xyz="0.017 0.0 0.012 "/>
  </joint>

  <link name="lfmetacarpal_collision_ball_2">
    <visual>
    <geometry>
    <sphere radius="0.0125"/>
    </geometry>
    <material name="purple">
    <color rgba="1.0 0.0 1.0 1.0"/>
    </material>
    </visual>
    <collision>
    <geometry>
    <sphere radius="0.0125"/>
    </geometry>
    </collision>
  </link>
  <joint name="lfmetacarpal_collision_ball_2_joint" type="fixed">
    <parent link="lfmetacarpal"/>
    <child link="lfmetacarpal_collision_ball_2"/>
    <origin rpy="0 0 0" xyz="0.034 0.0 0.024 "/>
  </joint>

  <joint name="LFJ5" type="revolute">
    <parent link="palm"/>
    <child link="lfmetacarpal"/>
    <origin rpy="0 -0.9599 0" xyz="-0.033 0 0.02071"/>
    <axis xyz="1 0 0"/>
    <limit effort="2" lower="0" upper="0.785398163397" velocity="2.0"/>
    <dynamics damping="0.1"/>
  </joint>
  <link name="lfknuckle">
    <inertial>
      <origin rpy="0 0 0" xyz="0 0 0"/>
      <mass value="0.008"/>
      <inertia ixx="0.00000026" ixy="0.0" ixz="0.0" iyy="0.00000026" iyz="0.0" izz="0.00000032"/>
    </inertial>
    <visual>
      <origin rpy="0 0 0" xyz="0 0 0.0005"/>
      <geometry name="lfknuckle_visual">
        <mesh filename="meshes/visual/f_knuckle_E3M5.obj" scale="0.001 0.001 0.001"/>
      </geometry>
    </visual>
    <collision>
      <geometry name="ffknuckle_visual">
        <mesh filename="meshes/collision/f_knuckle_E3M5.obj"/>
      </geometry>
    </collision>
  </link>
  <joint name="LFJ4" type="revolute">
    <parent link="lfmetacarpal"/>
    <child link="lfknuckle"/>
    <!--<origin xyz="0.033 0 0.095" rpy="0 0 0" />-->
    <origin rpy="0 0.9599 0" xyz="0.05397275 0 0.03779463"/>
    <axis xyz="0 1 0"/>
    <limit effort="2" lower="-0.349065850399" upper="0.349065850399" velocity="2.0"/>
    <dynamics damping="0.1"/>
  </joint>
  <link name="lfproximal">
    <inertial>
      <mass value="0.030"/>
      <origin xyz="0 0 0.0225"/>
      <inertia ixx="0.0000098" ixy="0.0" ixz="0.0" iyy="0.00001" iyz="0.0" izz="0.0000018"/>
    </inertial>
    <visual>
      <origin rpy="0 0 0" xyz="0 0 0"/>
      <geometry name="lfproximal_visual">
        <mesh filename="meshes/visual/f_proximal_E3M5.obj" scale="0.001 0.001 0.001"/>
      </geometry>
    </visual>
    <collision>
      <origin rpy="0 0 0" xyz="0 0 0.025"/>
      <geometry name="lfproximal_collision_geom">
        <cylinder length="0.040" radius="0.007"/>
      </geometry>
    </collision>
  </link>

  <!-- balls -->

  <link name="lfproximal_collision_ball_0">
    <visual>
    <geometry>
    <sphere radius="0.0103"/>
    </geometry>
    <material name="purple">
    <color rgba="1.0 0.0 1.0 1.0"/>
    </material>
    </visual>
    <collision>
    <geometry>
    <sphere radius="0.0103"/>
    </geometry>
    </collision>
  </link>
  <joint name="lfproximal_collision_ball_0_joint" type="fixed">
    <parent link="lfproximal"/>
    <child link="lfproximal_collision_ball_0"/>
    <origin rpy="0 0 0" xyz="0.0 0.0 0.0 "/>
  </joint>

  <link name="lfproximal_collision_ball_1">
    <visual>
    <geometry>
    <sphere radius="0.0103"/>
    </geometry>
    <material name="purple">
    <color rgba="1.0 0.0 1.0 1.0"/>
    </material>
    </visual>
    <collision>
    <geometry>
    <sphere radius="0.0103"/>
    </geometry>
    </collision>
  </link>
  <joint name="lfproximal_collision_ball_1_joint" type="fixed">
    <parent link="lfproximal"/>
    <child link="lfproximal_collision_ball_1"/>
    <origin rpy="0 0 0" xyz="0.0 0.0 0.015 "/>
  </joint>

  <link name="lfproximal_collision_ball_2">
    <visual>
    <geometry>
    <sphere radius="0.0103"/>
    </geometry>
    <material name="purple">
    <color rgba="1.0 0.0 1.0 1.0"/>
    </material>
    </visual>
    <collision>
    <geometry>
    <sphere radius="0.0103"/>
    </geometry>
    </collision>
  </link>
  <joint name="lfproximal_collision_ball_2_joint" type="fixed">
    <parent link="lfproximal"/>
    <child link="lfproximal_collision_ball_2"/>
    <origin rpy="0 0 0" xyz="0.0 0.0 0.03 "/>
  </joint>

  <joint name="LFJ3" type="revolute">
    <parent link="lfknuckle"/>
    <child link="lfproximal"/>
    <origin rpy="0 0 0" xyz="0 0 0"/>
    <axis xyz="1 0 0"/>
    <limit effort="2" lower="-0.261799387799" upper="1.57079632679" velocity="2.0"/>
    <dynamics damping="0.1"/>
  </joint>
  <link name="lfmiddle">
    <inertial>
      <origin rpy="0 0 0" xyz="0 0 0.0125"/>
      <mass value="0.017"/>
      <inertia ixx="0.0000026" ixy="0.0" ixz="0.0" iyy="0.0000027" iyz="0.0" izz="0.00000087"/>
    </inertial>
    <visual>
      <origin rpy="0 0 0" xyz="0 0 0"/>
      <geometry name="lfmiddle_visual">
        <mesh filename="meshes/visual/f_middle_E3M5.obj" scale="0.001 0.001 0.001"/>
      </geometry>
    </visual>
    <collision>
      <origin rpy="0 0 0" xyz="0 0 0.0125"/>
      <geometry name="lfmiddle_collision_geom">
        <cylinder length="0.025" radius="0.007"/>
      </geometry>
    </collision>
    <collision>
      <origin rpy="0 0 0" xyz="0 0 0.0"/>
      <geometry>
        <sphere radius="0.007"/>
      </geometry>
    </collision>
    <collision>
      <origin rpy="0 0 0" xyz="0 0 0.025"/>
      <geometry>
        <sphere radius="0.007"/>
      </geometry>
    </collision>
  </link>

  <!-- balls -->

  <link name="lfmiddle_collision_ball_0">
    <visual>
    <geometry>
    <sphere radius="0.010"/>
    </geometry>
    <material name="purple">
    <color rgba="1.0 0.0 1.0 1.0"/>
    </material>
    </visual>
    <collision>
    <geometry>
    <sphere radius="0.010"/>
    </geometry>
    </collision>
  </link>
  <joint name="lfmiddle_collision_ball_0_joint" type="fixed">
    <parent link="lfmiddle"/>
    <child link="lfmiddle_collision_ball_0"/>
    <origin rpy="0 0 0" xyz="0.0 0.0 0.0 "/>
  </joint>

  <link name="lfmiddle_collision_ball_1">
    <visual>
    <geometry>
    <sphere radius="0.010"/>
    </geometry>
    <material name="purple">
    <color rgba="1.0 0.0 1.0 1.0"/>
    </material>
    </visual>
    <collision>
    <geometry>
    <sphere radius="0.010"/>
    </geometry>
    </collision>
  </link>
  <joint name="lfmiddle_collision_ball_1_joint" type="fixed">
    <parent link="lfmiddle"/>
    <child link="lfmiddle_collision_ball_1"/>
    <origin rpy="0 0 0" xyz="0.0 0.0 0.015 "/>
  </joint>

  <joint name="LFJ2" type="revolute">
    <parent link="lfproximal"/>
    <child link="lfmiddle"/>
    <origin rpy="0 0 0" xyz="0 0 0.045"/>
    <axis xyz="1 0 0"/>
    <limit effort="2" lower="0" upper="1.57079632679" velocity="2.0"/>
    <dynamics damping="0.1"/>
  </joint>
  <link name="lfdistal">
    <!--    inertial and mass is enlarged by 10 times to fix the position drive issue in Physx simulation, used in IsaacGym and SAPIEN-->
    <inertial>
      <mass value="0.12"/>
      <origin xyz="0 0 0.012"/>
      <inertia ixx="0.0000094" ixy="0.0" ixz="0.0" iyy="0.000011" iyz="0.0" izz="0.0000053"/>
    </inertial>
    <visual>
      <origin rpy="0 0 0" xyz="0 0 0"/>
      <geometry name="lfdistal_visual">
        <mesh filename="meshes/visual/f_distal_pst.obj" scale="0.001 0.001 0.001"/>
      </geometry>
    </visual>
    <collision>
      <origin rpy="0 0 0" xyz="0 0 0"/>
      <geometry name="lfdistal_collision_geom">
        <mesh filename="meshes/collision/f_distal_pst.obj" scale="0.001 0.001 0.001"/>
      </geometry>
    </collision>
  </link>

  <!-- balls -->

  <link name="lfdistal_collision_ball_0">
    <visual>
    <geometry>
    <sphere radius="0.010"/>
    </geometry>
    <material name="purple">
    <color rgba="1.0 0.0 1.0 1.0"/>
    </material>
    </visual>
    <collision>
    <geometry>
    <sphere radius="0.010"/>
    </geometry>
    </collision>
  </link>
  <joint name="lfdistal_collision_ball_0_joint" type="fixed">
    <parent link="lfdistal"/>
    <child link="lfdistal_collision_ball_0"/>
    <origin rpy="0 0 0" xyz="0.0 0.0 0.0 "/>
  </joint>

  <link name="lfdistal_collision_ball_1">
    <visual>
    <geometry>
    <sphere radius="0.010"/>
    </geometry>
    <material name="purple">
    <color rgba="1.0 0.0 1.0 1.0"/>
    </material>
    </visual>
    <collision>
    <geometry>
    <sphere radius="0.010"/>
    </geometry>
    </collision>
  </link>
  <joint name="lfdistal_collision_ball_1_joint" type="fixed">
    <parent link="lfdistal"/>
    <child link="lfdistal_collision_ball_1"/>
    <origin rpy="0 0 0" xyz="0.0 0.0 0.015 "/>
  </joint>

  <link name="lfdistal_collision_ball_2">
    <visual>
    <geometry>
    <sphere radius="0.010"/>
    </geometry>
    <material name="purple">
    <color rgba="1.0 0.0 1.0 1.0"/>
    </material>
    </visual>
    <collision>
    <geometry>
    <sphere radius="0.010"/>
    </geometry>
    </collision>
  </link>
  <joint name="lfdistal_collision_ball_2_joint" type="fixed">
    <parent link="lfdistal"/>
    <child link="lfdistal_collision_ball_2"/>
    <origin rpy="0 0 0" xyz="0.0 0.0 0.025 "/>
  </joint>

  <joint name="LFJ1" type="revolute">
    <parent link="lfmiddle"/>
    <child link="lfdistal"/>
    <origin rpy="0 0 0" xyz="0 0 0.025"/>
    <axis xyz="1 0 0"/>
    <!-- standard distal joint -->
    <limit effort="2" lower="0" upper="1.57079632679" velocity="2.0"/>
    <dynamics damping="0.1"/>
  </joint>
  <link name="lftip">
    <inertial>
      <mass value="0.001"/>
      <inertia ixx="0.0" ixy="0.0" ixz="0.0" iyy="0.0" iyz="0.0" izz="0.0"/>
    </inertial>
  </link>
  <joint name="LFtip" type="fixed">
    <parent link="lfdistal"/>
    <child link="lftip"/>
    <origin rpy="0 0 0" xyz="0 0 0.026"/>
  </joint>
  <link name="thbase">
    <inertial>
      <mass value="0.010"/>
      <origin rpy="0 0 0" xyz="0 0 0"/>
      <inertia ixx="0.00000016" ixy="0.0" ixz="0.0" iyy="0.00000016" iyz="0.0" izz="0.00000016"/>
    </inertial>
    <visual>
      <origin rpy="0 0 0" xyz="0 0 0"/>
      <geometry name="thbase_visual">
        <box size="0.001 0.001 0.001"/>
      </geometry>
    </visual>
    <collision>
      <origin rpy="0 0 0" xyz="0 0 0"/>
      <geometry name="thbase_collision_geom">
        <sphere radius="0.011"/>
      </geometry>
    </collision>
  </link>
  <joint name="THJ5" type="revolute">
    <parent link="palm"/>
    <child link="thbase"/>
    <origin rpy="-0.785398163397 0 -1.57079632679" xyz="0.034 -0.00858 0.029"/>
    <axis xyz="0 0 -1"/>
    <limit effort="5.0" lower="-1.0471975512" upper="1.0471975512" velocity="4.0"/>
    <dynamics damping="0.2"/>
  </joint>
  <link name="thproximal">
    <inertial>
      <mass value="0.040"/>
      <origin rpy="0 0 0" xyz="0 0 0.019"/>
      <inertia ixx="0.0000136" ixy="0.0" ixz="0.0" iyy="0.0000136" iyz="0.0" izz="0.00000313"/>
    </inertial>
    <visual>
      <origin rpy="0 0 1.57079632679" xyz="0 0 0"/>
      <geometry name="thproximal_visual">
        <mesh filename="meshes/visual/th_proximal_E3M5.obj" scale="0.001 0.001 0.001"/>
      </geometry>
    </visual>
    <collision>
      <geometry name="thproximal_collision">
        <mesh filename="meshes/collision/th_proximal_E3M5.obj" scale="0.001 0.001 0.001"/>
      </geometry>
    </collision>
  </link>

  <!-- balls -->

  <link name="thproximal_collision_ball_0">
    <visual>
    <geometry>
    <sphere radius="0.014"/>
    </geometry>
    <material name="purple">
    <color rgba="1.0 0.0 1.0 1.0"/>
    </material>
    </visual>
    <collision>
    <geometry>
    <sphere radius="0.014"/>
    </geometry>
    </collision>
  </link>
  <joint name="thproximal_collision_ball_0_joint" type="fixed">
    <parent link="thproximal"/>
    <child link="thproximal_collision_ball_0"/>
    <origin rpy="0 0 0" xyz="0.0 0.0 0.0 "/>
  </joint>

  <link name="thproximal_collision_ball_1">
    <visual>
    <geometry>
    <sphere radius="0.013"/>
    </geometry>
    <material name="purple">
    <color rgba="1.0 0.0 1.0 1.0"/>
    </material>
    </visual>
    <collision>
    <geometry>
    <sphere radius="0.013"/>
    </geometry>
    </collision>
  </link>
  <joint name="thproximal_collision_ball_1_joint" type="fixed">
    <parent link="thproximal"/>
    <child link="thproximal_collision_ball_1"/>
    <origin rpy="0 0 0" xyz="0.0 0.0 0.015 "/>
  </joint>

  <joint name="THJ4" type="revolute">
    <parent link="thbase"/>
    <child link="thproximal"/>
    <origin rpy="0 0 0" xyz="0 0 0"/>
    <axis xyz="0 1 0"/>
    <limit effort="3" lower="0.0" upper="1.2217304764" velocity="4.0"/>
    <dynamics damping="0.2"/>
  </joint>
  <link name="thhub">
    <inertial>
      <mass value="0.005"/>
      <origin rpy="0 0 0" xyz="0 0 0"/>
      <inertia ixx="0.000001" ixy="0.0" ixz="0.0" iyy="0.000001" iyz="0.0" izz="0.0000003"/>
    </inertial>
    <collision>
      <origin rpy="0 0 0" xyz="0 0 0"/>
      <geometry name="thhub_collision_geom">
        <sphere radius="0.010"/>
      </geometry>
    </collision>
  </link>
  <joint name="THJ3" type="revolute">
    <parent link="thproximal"/>
    <child link="thhub"/>
    <origin rpy="0 0 0" xyz="0 0 0.038"/>
    <axis xyz="0 1 0"/>
    <limit effort="2.0" lower="-0.209439510239" upper="0.209439510239" velocity="4.0"/>
    <dynamics damping="0.2"/>
  </joint>
  <link name="thmiddle">
    <inertial>
      <mass value="0.020"/>
      <origin rpy="0 0 0" xyz="0 0 0.016"/>
      <inertia ixx="0.0000051" ixy="0.0" ixz="0.0" iyy="0.0000051" iyz="0.0" izz="0.00000121"/>
    </inertial>
    <visual>
      <origin rpy="0 0 1.57079632679" xyz="0 0 0"/>
      <geometry name="thmiddle_visual">
        <mesh filename="meshes/visual/th_middle_E3M5.obj" scale="0.001 0.001 0.001"/>
      </geometry>
    </visual>
    <collision>
      <geometry name="thmiddle_collision">
        <mesh filename="meshes/collision/th_middle_E3M5.obj" scale="0.001 0.001 0.001"/>
      </geometry>
    </collision>
  </link>

  <!-- balls -->

  <link name="thmiddle_collision_ball_0">
    <visual>
    <geometry>
    <sphere radius="0.011"/>
    </geometry>
    <material name="purple">
    <color rgba="1.0 0.0 1.0 1.0"/>
    </material>
    </visual>
    <collision>
    <geometry>
    <sphere radius="0.011"/>
    </geometry>
    </collision>
  </link>
  <joint name="thmiddle_collision_ball_0_joint" type="fixed">
    <parent link="thmiddle"/>
    <child link="thmiddle_collision_ball_0"/>
    <origin rpy="0 0 0" xyz="0.0 0.0 0.0 "/>
  </joint>

  <link name="thmiddle_collision_ball_1">
    <visual>
    <geometry>
    <sphere radius="0.0105"/>
    </geometry>
    <material name="purple">
    <color rgba="1.0 0.0 1.0 1.0"/>
    </material>
    </visual>
    <collision>
    <geometry>
    <sphere radius="0.0105"/>
    </geometry>
    </collision>
  </link>
  <joint name="thmiddle_collision_ball_1_joint" type="fixed">
    <parent link="thmiddle"/>
    <child link="thmiddle_collision_ball_1"/>
    <origin rpy="0 0 0" xyz="0.0 0.0 0.015 "/>
  </joint>

  <joint name="THJ2" type="revolute">
    <parent link="thhub"/>
    <child link="thmiddle"/>
    <origin rpy="0 0 0" xyz="0 0 0"/>
    <axis xyz="1 0 0"/>
    <limit effort="2.0" lower="-0.698131700798" upper="0.698131700798" velocity="2.0"/>
    <dynamics damping="0.1"/>
  </joint>
  <!-- common -->
  <link name="thdistal">
    <!--    inertial and mass is enlarged by 10 times to fix the position drive issue in Physx simulation, used in IsaacGym and SAPIEN-->
    <inertial>
      <mass value="0.16"/>
      <origin rpy="0 0 0" xyz="0 0 0.01375"/>
      <inertia ixx="0.000021" ixy="0.0" ixz="0.0" iyy="0.000022" iyz="0.0" izz="0.00001"/>
    </inertial>
    <visual>
      <origin rpy="0 0 0" xyz="0 0 0"/>
      <geometry name="thdistal_visual">
        <mesh filename="meshes/visual/th_distal_pst.obj" scale="0.001 0.001 0.001"/>
      </geometry>
    </visual>
    <collision>
      <origin rpy="0 0 0" xyz="0 0 0"/>
      <geometry name="thmiddle_collision_geom">
        <mesh filename="meshes/visual/th_distal_pst.obj" scale="0.001 0.001 0.001"/>
      </geometry>
    </collision>
  </link>

  <!-- balls -->

  <link name="thdistal_collision_ball_0">
    <visual>
    <geometry>
    <sphere radius="0.0105"/>
    </geometry>
    <material name="purple">
    <color rgba="1.0 0.0 1.0 1.0"/>
    </material>
    </visual>
    <collision>
    <geometry>
    <sphere radius="0.0105"/>
    </geometry>
    </collision>
  </link>
  <joint name="thdistal_collision_ball_0_joint" type="fixed">
    <parent link="thdistal"/>
    <child link="thdistal_collision_ball_0"/>
    <origin rpy="0 0 0" xyz="0.0 0.0 0.0 "/>
  </joint>

  <link name="thdistal_collision_ball_1">
    <visual>
    <geometry>
    <sphere radius="0.0105"/>
    </geometry>
    <material name="purple">
    <color rgba="1.0 0.0 1.0 1.0"/>
    </material>
    </visual>
    <collision>
    <geometry>
    <sphere radius="0.0105"/>
    </geometry>
    </collision>
  </link>
  <joint name="thdistal_collision_ball_1_joint" type="fixed">
    <parent link="thdistal"/>
    <child link="thdistal_collision_ball_1"/>
    <origin rpy="0 0 0" xyz="0.0 0.0 0.015 "/>
  </joint>

  <link name="thdistal_collision_ball_2">
    <visual>
    <geometry>
    <sphere radius="0.0105"/>
    </geometry>
    <material name="purple">
    <color rgba="1.0 0.0 1.0 1.0"/>
    </material>
    </visual>
    <collision>
    <geometry>
    <sphere radius="0.0105"/>
    </geometry>
    </collision>
  </link>
  <joint name="thdistal_collision_ball_2_joint" type="fixed">
    <parent link="thdistal"/>
    <child link="thdistal_collision_ball_2"/>
    <origin rpy="0 0 0" xyz="0.0 0.0 0.025 "/>
  </joint>

  <joint name="THJ1" type="revolute">
    <parent link="thmiddle"/>
    <child link="thdistal"/>
    <origin rpy="0 0 0" xyz="0 0 0.032"/>
    <axis xyz="1 0 0"/>
    <limit effort="1.0" lower="-0.261799387799" upper="1.57079632679" velocity="4.0"/>
    <dynamics damping="0.2"/>
  </joint>
  <link name="thtip">
    <inertial>
      <mass value="0.001"/>
      <inertia ixx="0.0" ixy="0.0" ixz="0.0" iyy="0.0" iyz="0.0" izz="0.0"/>
    </inertial>
  </link>
  <joint name="THtip" type="fixed">
    <parent link="thdistal"/>
    <child link="thtip"/>
    <origin rpy="0 0 0" xyz="0 0 0.0275"/>
  </joint>
</robot>
